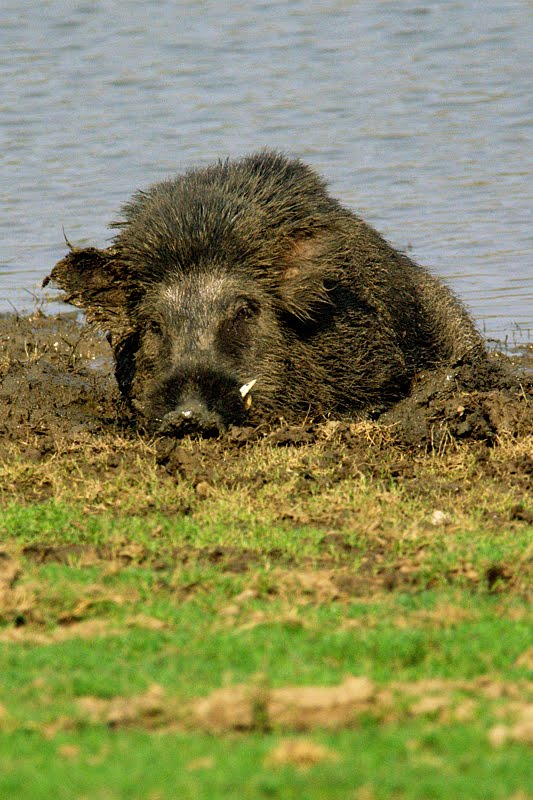wild boar: (45, 150, 499, 428)
